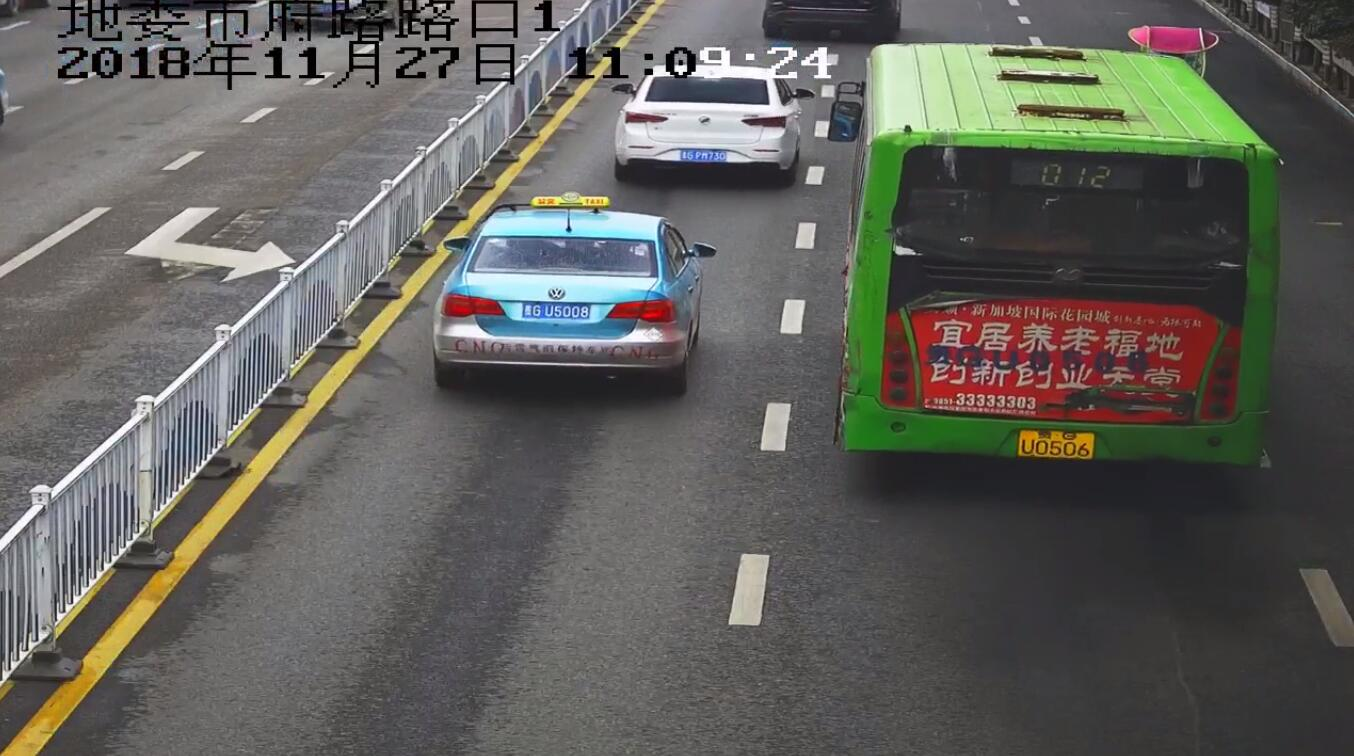yanwu: (985, 453, 1281, 640)
